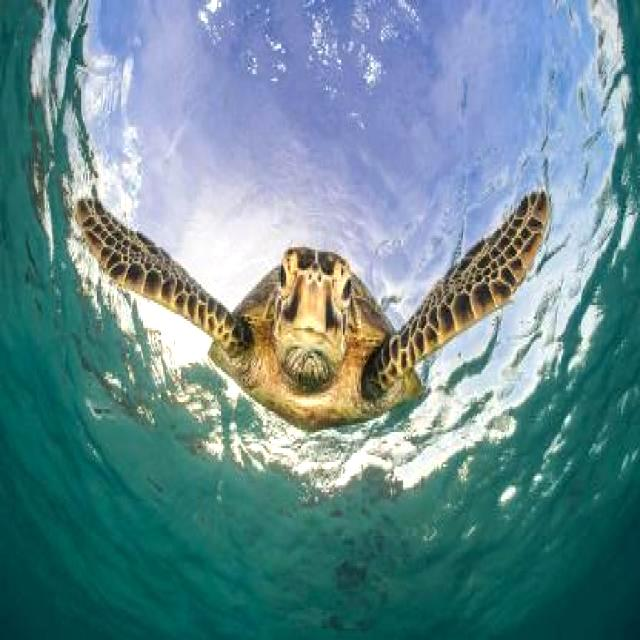Sea turtle: (70, 164, 555, 446)
